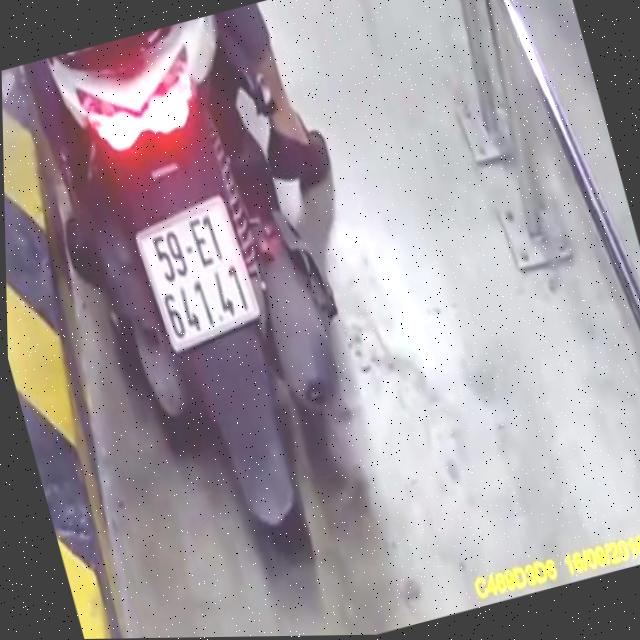motorcycle: (22, 2, 409, 597)
plate: (128, 190, 271, 360)
